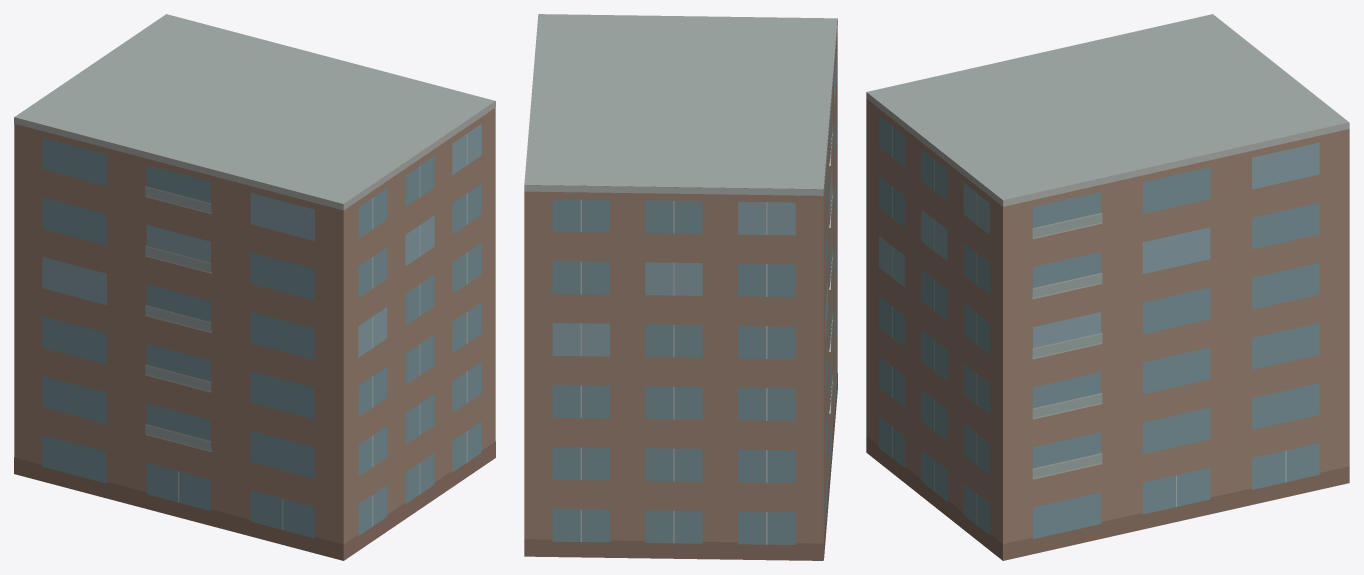
The model's file is survey-upis-33000069.glb.
3 views of the same model, side by side, from view 1: azimuth 30°, elevation 25°; view 2: azimuth 150°, elevation 25°; view 3: azimuth 270°, elevation 25° (orthographic). The views are drawn at different scales.
Parts seen in each view (by area): view 1: survey-upis-33000069.tmp; view 2: survey-upis-33000069.tmp; view 3: survey-upis-33000069.tmp.
Part boxes in pixels (x1,y1,x2,y2): survey-upis-33000069.tmp: [14, 14, 495, 560]; survey-upis-33000069.tmp: [524, 14, 837, 560]; survey-upis-33000069.tmp: [866, 14, 1349, 560].
Size of the model in its own units: 15.03 by 13.55 by 16.46.
